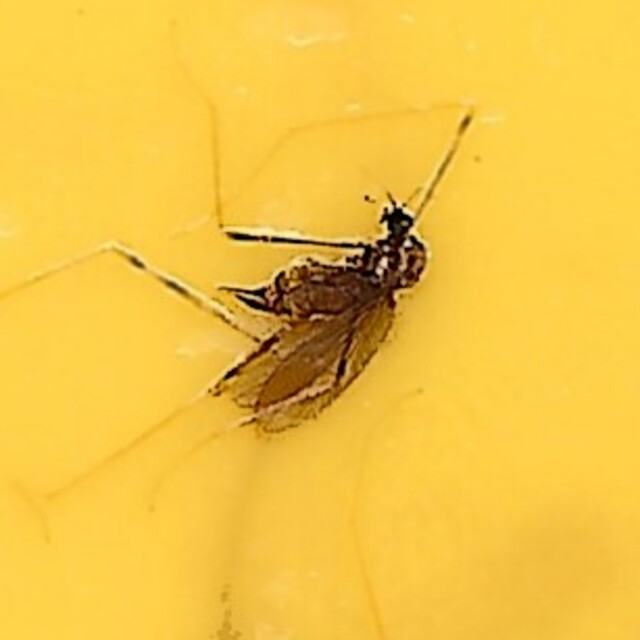Nematocera: (208, 193, 432, 447)
